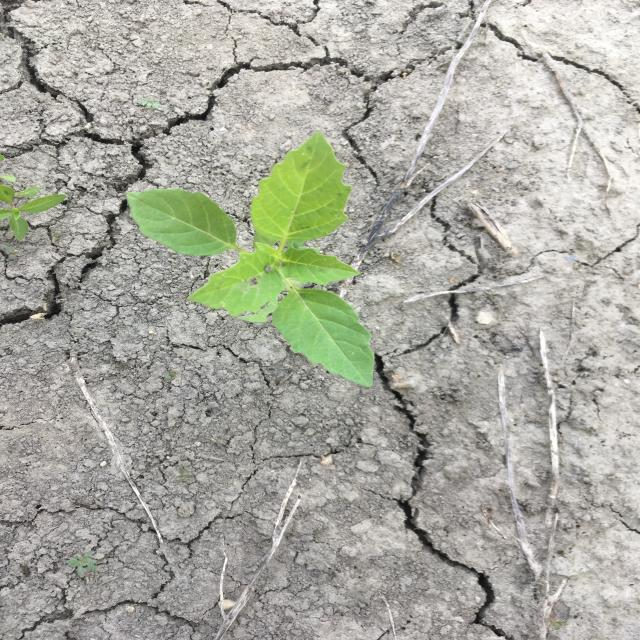CutleafGroundcherry: (122, 128, 377, 389)
